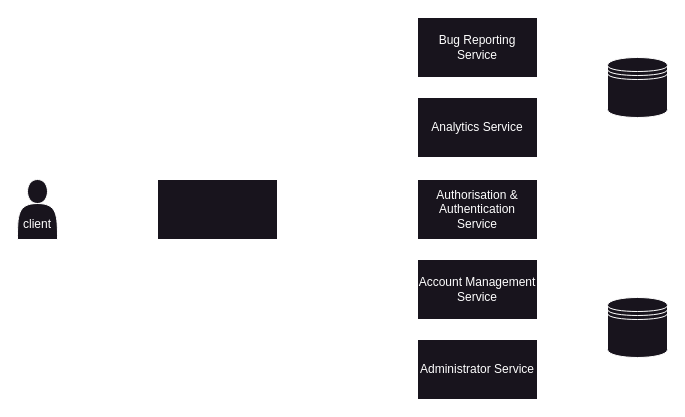
Some shapes in this 685 by 417 pixel diagram are drawn without their labels. The shapes that lost their labels are listed below. From the top down, each one's box as (x1, y1, x2, y2) in pixels, then its label:
(606, 56, 668, 118): Bug Reports
(156, 178, 278, 240): Service Discovery & Load Balancer
(606, 296, 668, 358): User Accounts
